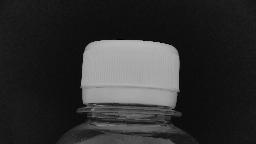Good Cap: (72, 36, 184, 120)
